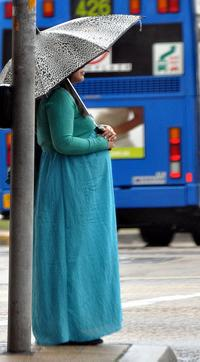person: (32, 65, 122, 346)
